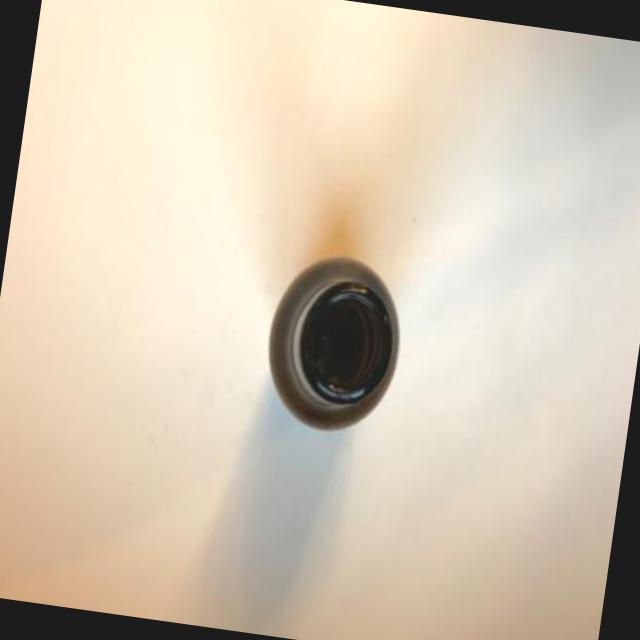chai_thuy_tinh: (267, 256, 401, 431)
